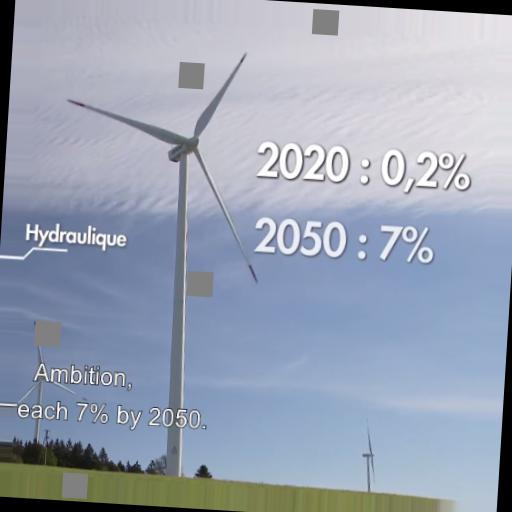wind turbine: (65, 50, 258, 466)
